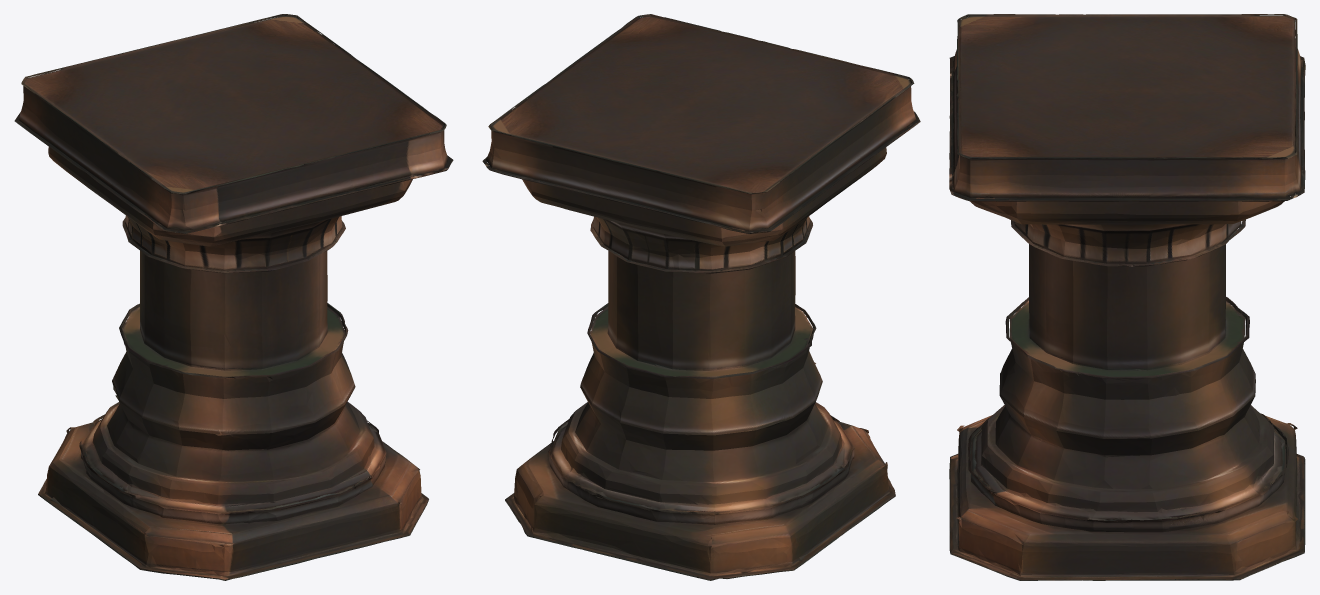
File: DecChurch.fbx
The picture shows the model from 3 angles, left to right: view 1: azimuth 30°, elevation 25°; view 2: azimuth 150°, elevation 25°; view 3: azimuth 270°, elevation 25°; orthographic projection. The views are drawn at different scales.
Parts seen in each view (by area): view 1: temp; view 2: temp; view 3: temp.
Part boxes in pixels (<box>): temp: <box>14,14,453,580</box>; temp: <box>482,14,920,580</box>; temp: <box>949,14,1305,580</box>.
Size of the model in its own units: 153 by 199 by 152.
Materials: 1 (1 with a texture image).
